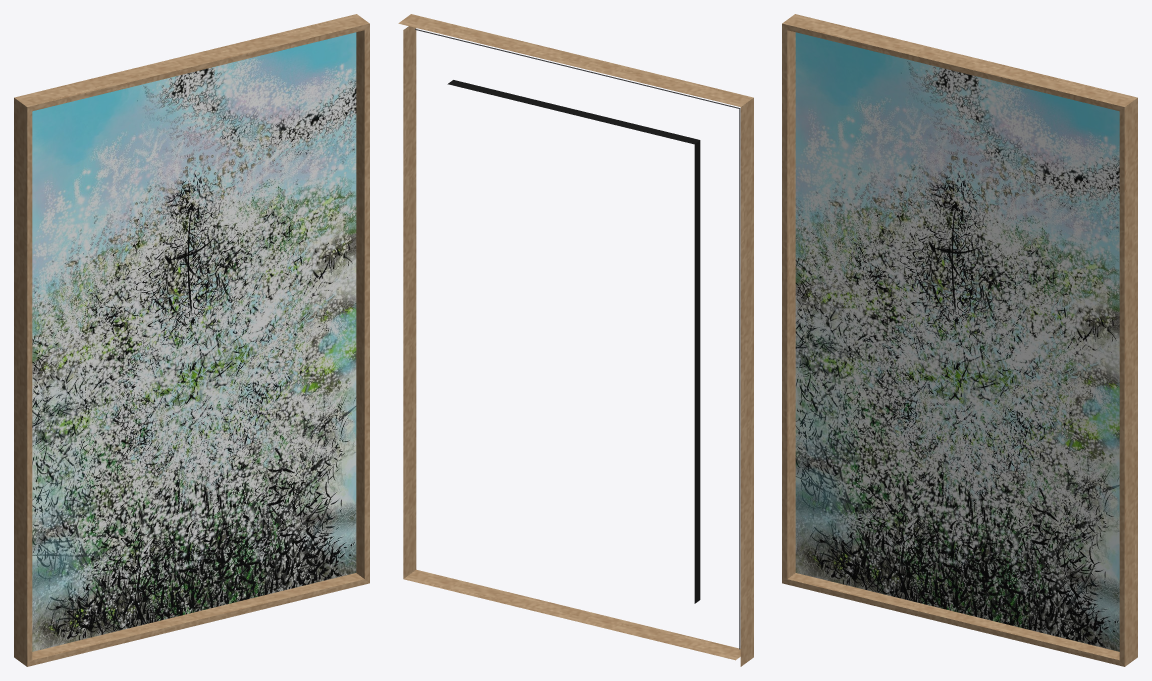
File: os027_moyen_caisse-chene.glb
3 renders of one model, left to right at view 1: azimuth 30°, elevation 25°; view 2: azimuth 150°, elevation 25°; view 3: azimuth 330°, elevation 25°, orthographic.
Parts seen in each view (by area): view 1: os027_moyen_caisse-chene; view 2: os027_moyen_caisse-chene; view 3: os027_moyen_caisse-chene.
Part boxes in pixels (<box>): os027_moyen_caisse-chene: <box>14,14,369,666</box>; os027_moyen_caisse-chene: <box>398,14,753,666</box>; os027_moyen_caisse-chene: <box>782,14,1137,666</box>.
Bounding box in the file's own units: 0.5304 × 0.828 × 0.035.
4 materials, 2 textured.
